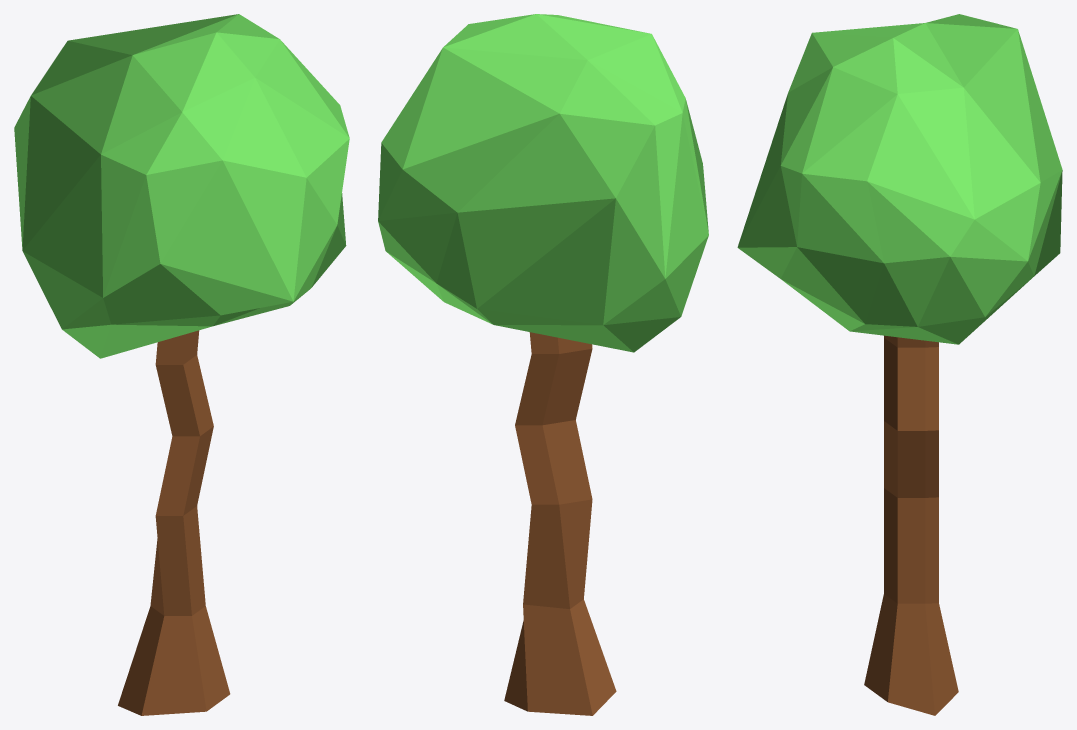
The model's file is tree.fbx.
3 views of the same model, side by side, from view 1: azimuth 30°, elevation 25°; view 2: azimuth 150°, elevation 25°; view 3: azimuth 270°, elevation 25° (orthographic).
Visible parts, largest first — view 1: Icosphere, Cylinder; view 2: Icosphere, Cylinder; view 3: Icosphere, Cylinder.
Boxes of the visible parts, x1=… form: Icosphere: x1=14, y1=14, x2=349, y2=358; Cylinder: x1=118, y1=330, x2=230, y2=715; Icosphere: x1=378, y1=14, x2=708, y2=352; Cylinder: x1=504, y1=332, x2=616, y2=715; Icosphere: x1=737, y1=14, x2=1062, y2=344; Cylinder: x1=864, y1=335, x2=958, y2=715.
Bounding box in the file's own units: 236 × 540 × 237.
